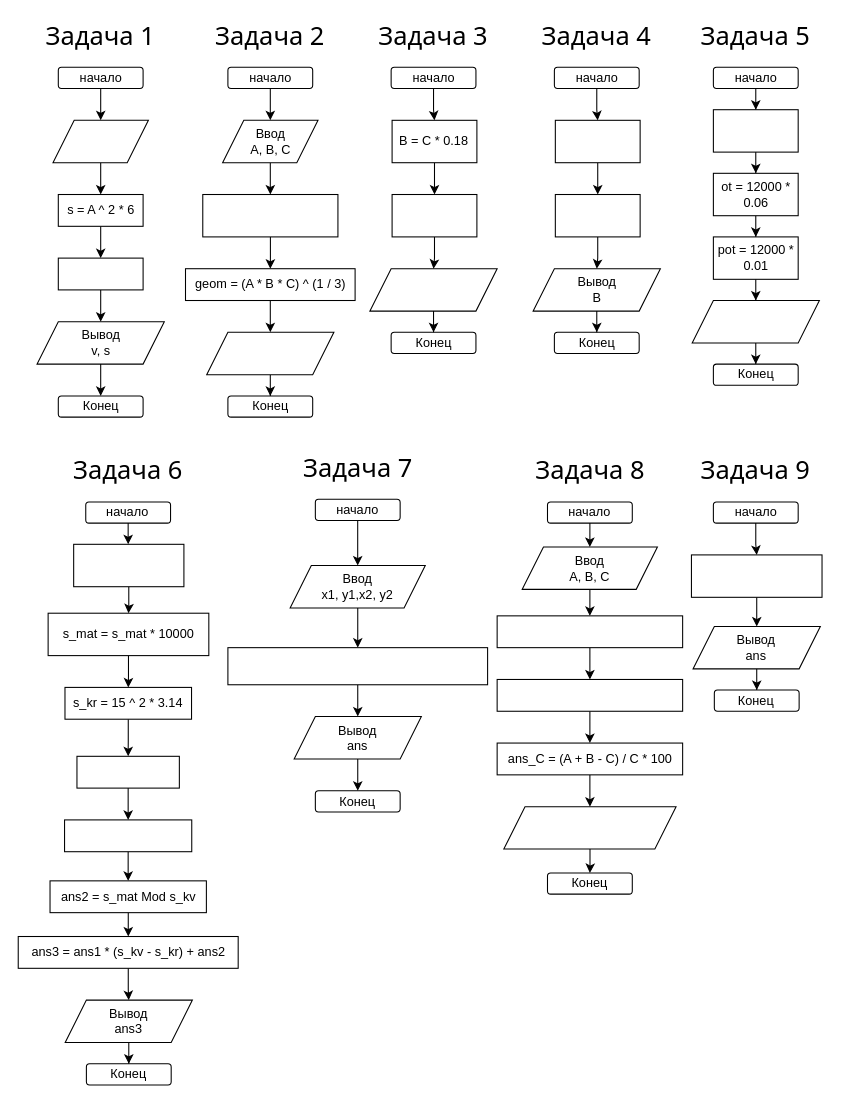
This 846x1103 diagram has some shape labels left out. The shapes that lost their labels are listed below. From the top down, each one's centre as x and y in pixels, then its label:
At (x=100, y=141): "Ввод A".
At (x=597, y=141): "A = 1 / 30".
At (x=755, y=130): "pr = 12000 * 0.93".
At (x=270, y=215): "arifm = (A + B + C) / 3".
At (x=434, y=215): "A = B * 0.25".
At (x=597, y=215): "B = 7 / A".
At (x=100, y=273): "v = A ^ 3".
At (x=433, y=289): "Вывод A, B".
At (x=755, y=321): "Вывод pr, ot, pot".
At (x=270, y=353): "Вывод arifm, geom".
At (x=128, y=565): "s_mat = 12 * 1.4".
At (x=756, y=575): "ans = 3 * 7 * 60 * 6".
At (x=589, y=631): "ans_A = (A + B - C) / A * 100".
At (x=357, y=666): "ans = ((x2 - x1) ^ 2 + (y2 - y1) ^ 2) ^ (1 / 2)".
At (x=589, y=694): "ans_B = (A + B - C) / B * 100".
At (x=127, y=771): "s_kv = 30 ^ 2".
At (x=127, y=835): "ans1 = s_mat \ s_kv".
At (x=589, y=827): "Вывод ans_A, ans_B, ans_C".
